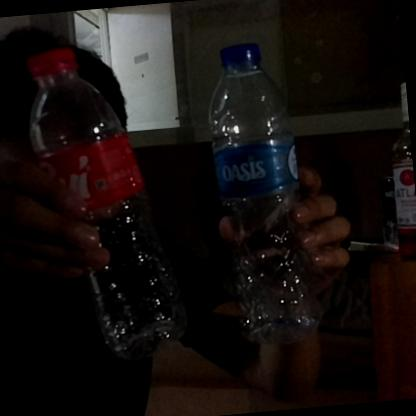plastic_bottles: (27, 40, 191, 364), (196, 38, 324, 354)
